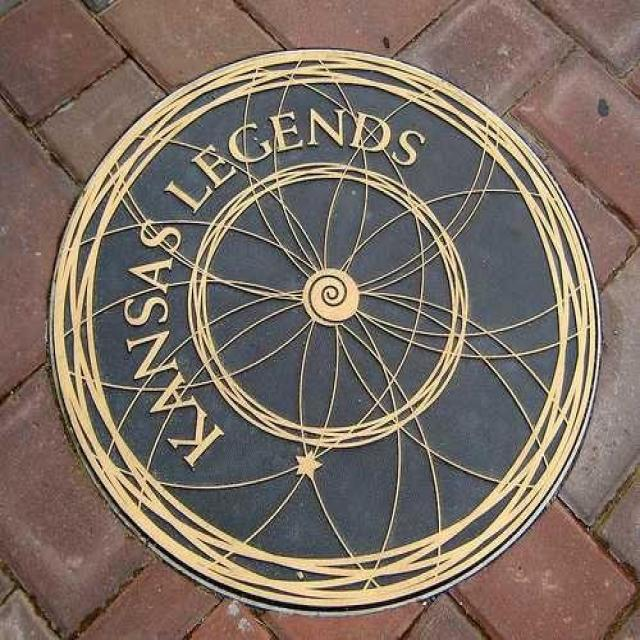manhole: (50, 50, 600, 611)
